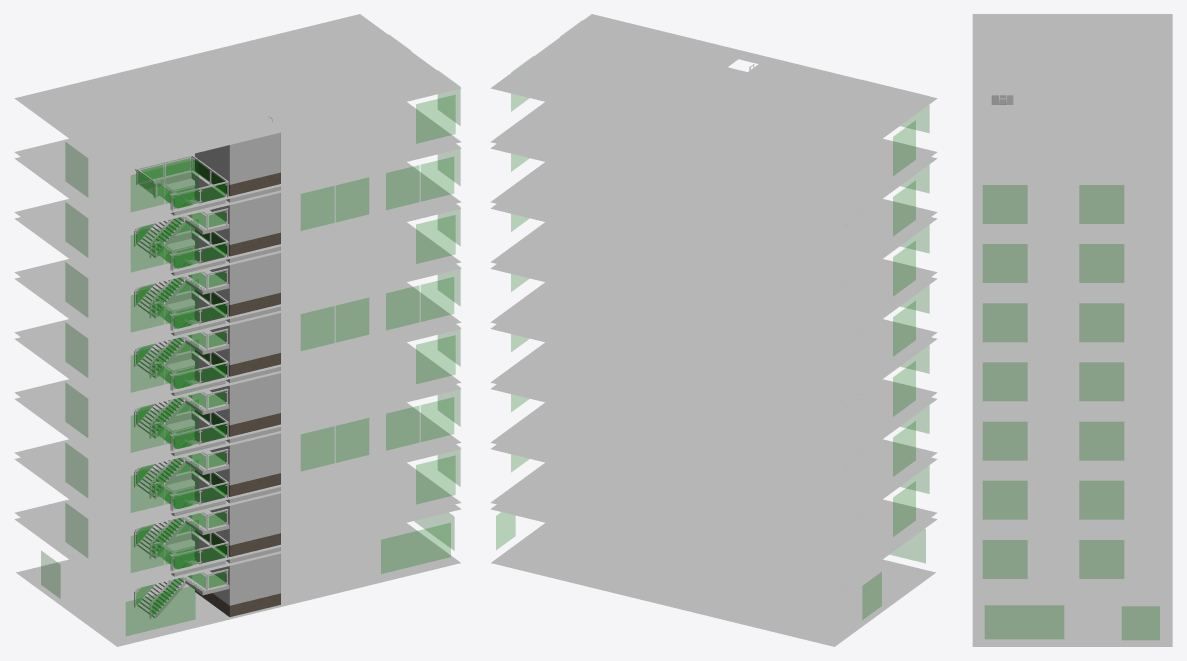
File: SM_Building24_V2_Interior.fbx
3 views of the same model, side by side, from view 1: azimuth 30°, elevation 25°; view 2: azimuth 150°, elevation 25°; view 3: azimuth 270°, elevation 25° (orthographic).
Visible parts, largest first — view 1: SM_Building24_V2_Interior; view 2: SM_Building24_V2_Interior; view 3: SM_Building24_V2_Interior.
Boxes of the visible parts, x1,y1,x2,y2 form: SM_Building24_V2_Interior: (14, 14, 461, 646); SM_Building24_V2_Interior: (490, 14, 937, 646); SM_Building24_V2_Interior: (972, 14, 1172, 646).
Size of the model in its own units: 2486 by 3322 by 1281.
